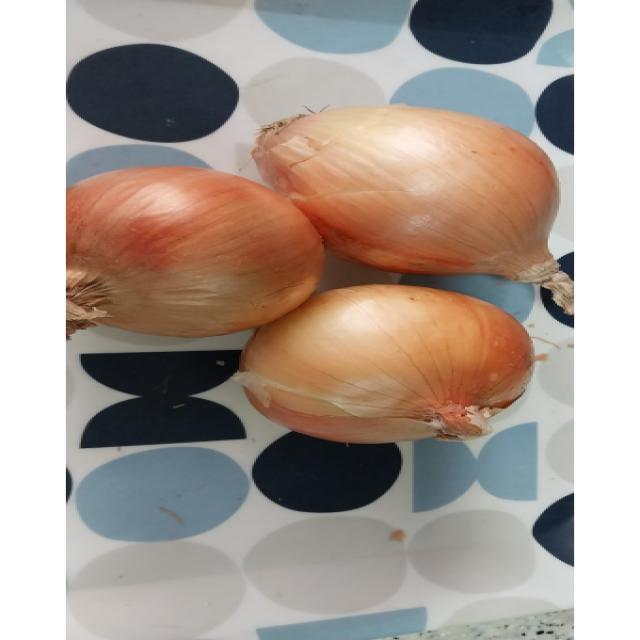Onion: (266, 80, 582, 302), (267, 271, 538, 451), (57, 163, 327, 334)
